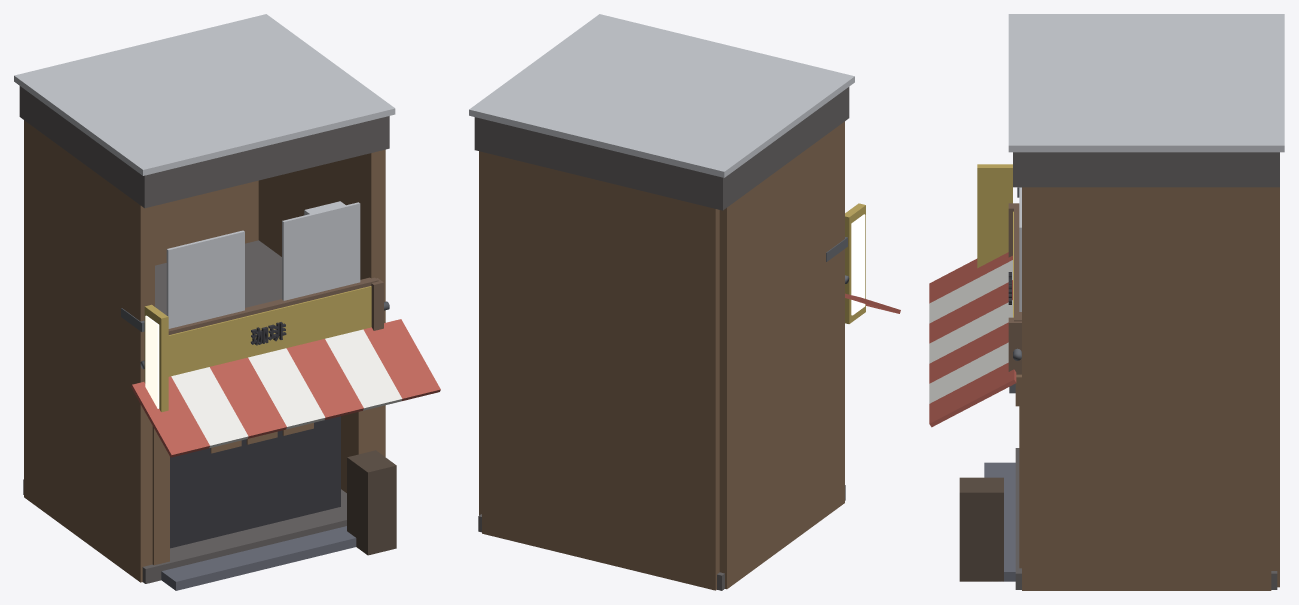
The model's file is prop_shop_kissa.glb.
3 views of the same model, side by side, from view 1: azimuth 30°, elevation 25°; view 2: azimuth 150°, elevation 25°; view 3: azimuth 270°, elevation 25° (orthographic). The views are drawn at different scales.
Visible parts, largest first — view 1: shop_kissa; view 2: shop_kissa; view 3: shop_kissa.
Part boxes in pixels (<box>): shop_kissa: <box>14,14,440,590</box>; shop_kissa: <box>469,14,900,590</box>; shop_kissa: <box>929,14,1284,590</box>.
Size of the model in its own units: 3.73 by 5.54 by 3.99.
